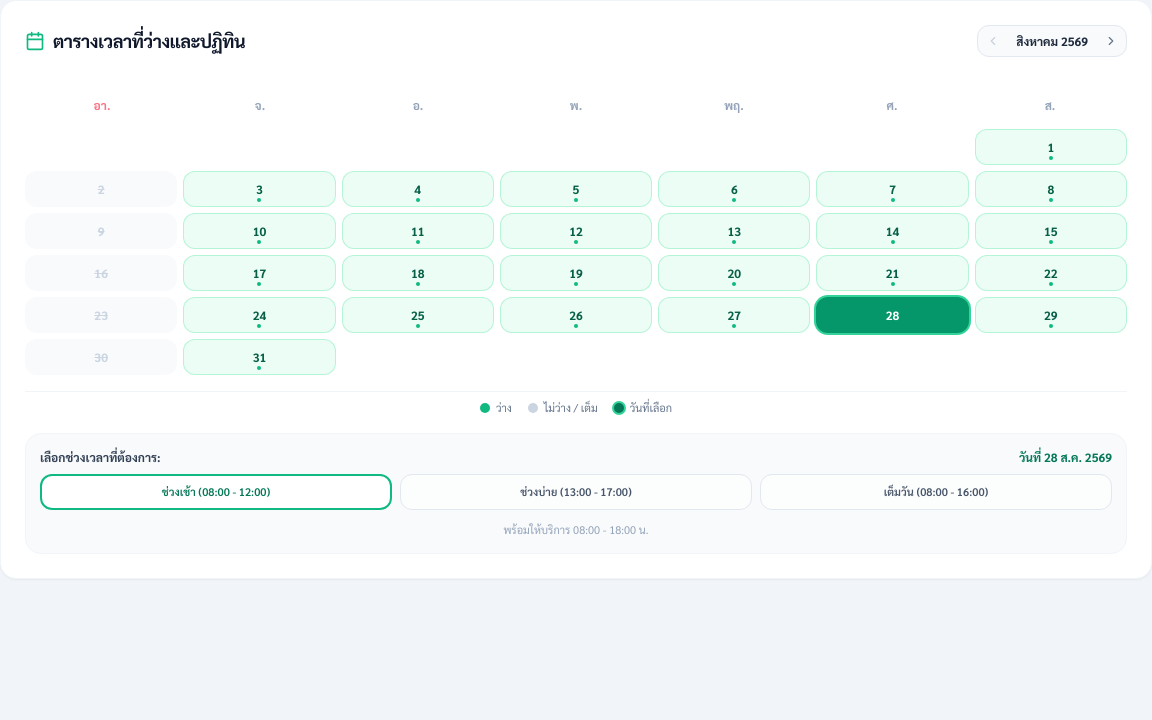
it: Milestone M3: Match Results & Caretaker Profile Comprehensive Tests › AvailabilityCalendar › renders month navigation and allows switching between Aug and Sep 2026
Expected: the text "สิงหาคม 2569" is shown, [1016,33,1088,49]
Click the button named "Next Month" at point(1111, 41), box [1100,30,1122,52]
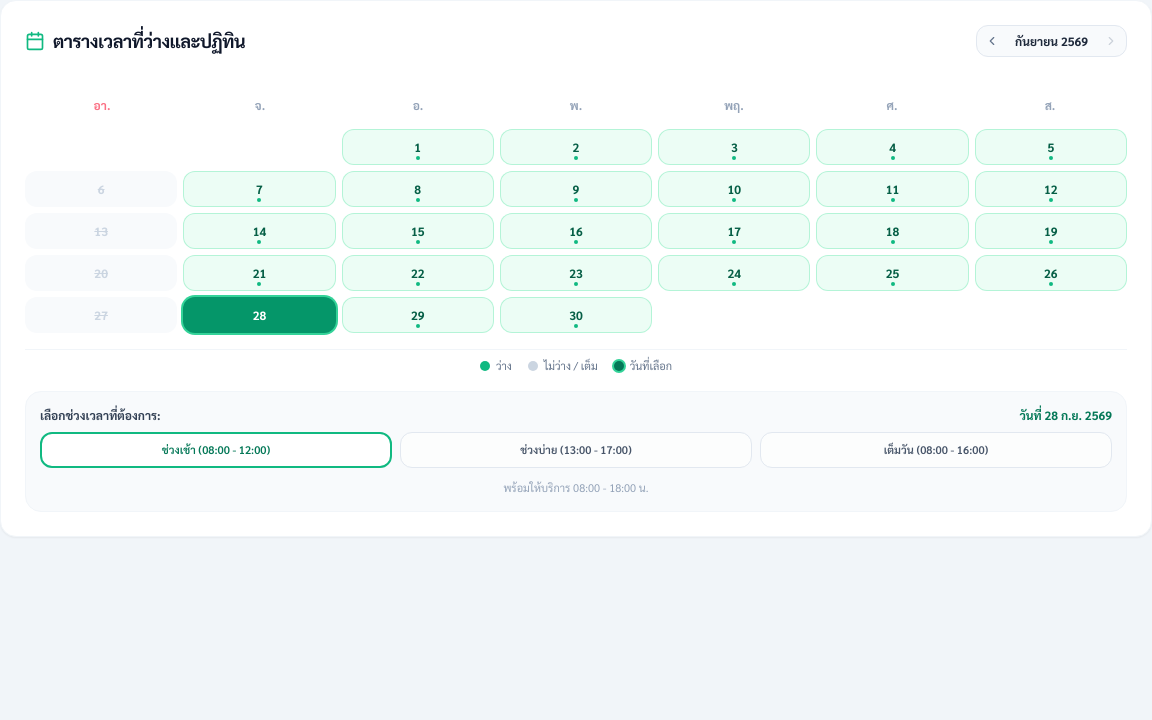
Expected: the text "กันยายน 2569" is shown, [1015,33,1088,49]
Click the button named "Previous Month" at point(992, 41), box [981,30,1003,52]
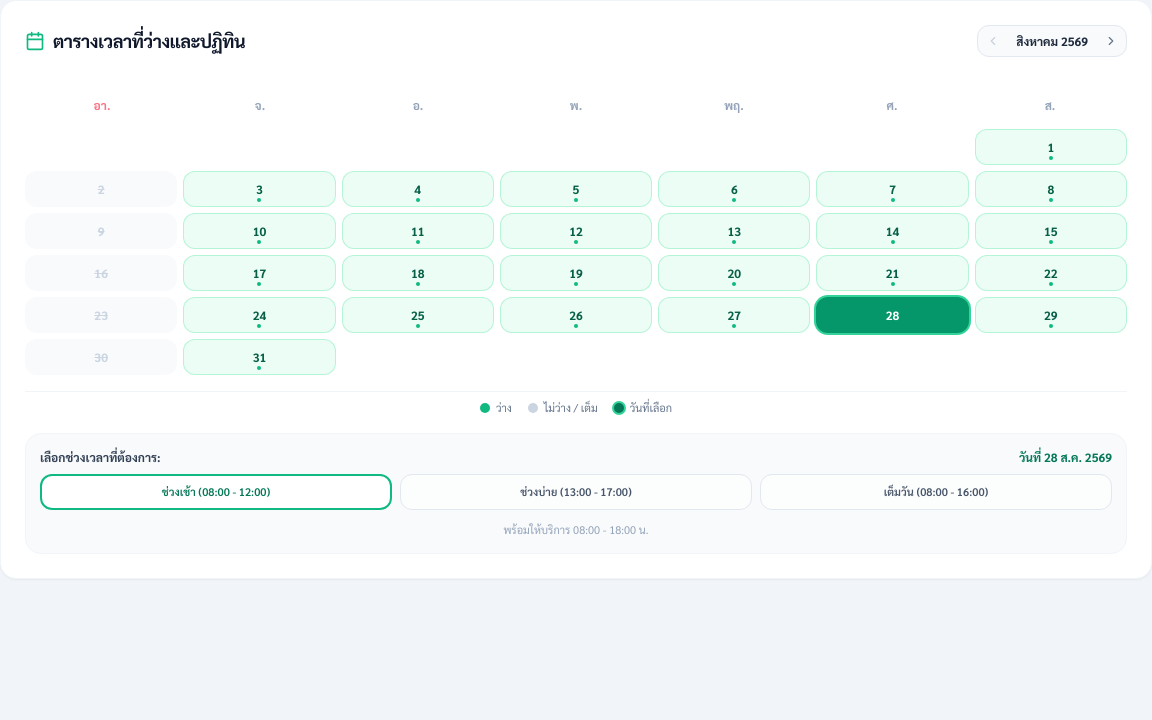
Expected: the text "สิงหาคม 2569" is shown, [1016,33,1088,49]
